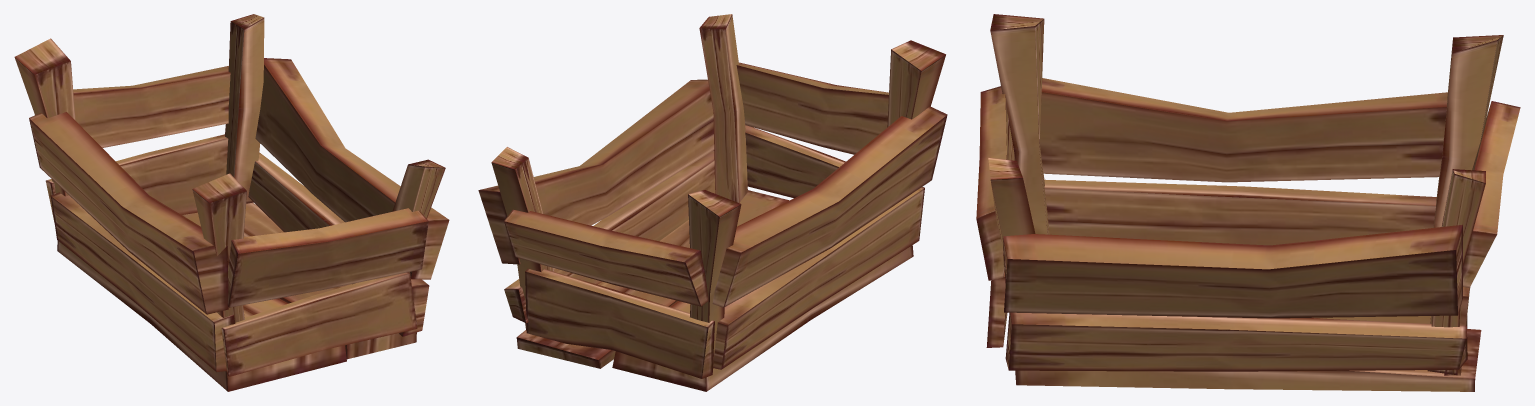
File: SM_PROP_crate_01.glb
3 views of the same model, side by side, from view 1: azimuth 30°, elevation 25°; view 2: azimuth 150°, elevation 25°; view 3: azimuth 270°, elevation 25° (orthographic). The views are drawn at different scales.
Visible parts, largest first — view 1: SM_PROP_crate_01_EXPORT; view 2: SM_PROP_crate_01_EXPORT; view 3: SM_PROP_crate_01_EXPORT.
Boxes of the visible parts, x1,y1,x2,y2 form: SM_PROP_crate_01_EXPORT: [14, 14, 449, 391]; SM_PROP_crate_01_EXPORT: [478, 14, 947, 391]; SM_PROP_crate_01_EXPORT: [976, 14, 1520, 391].
Bounding box in the file's own units: 0.645 × 0.4619 × 0.8913.
1 material, 1 textured.
